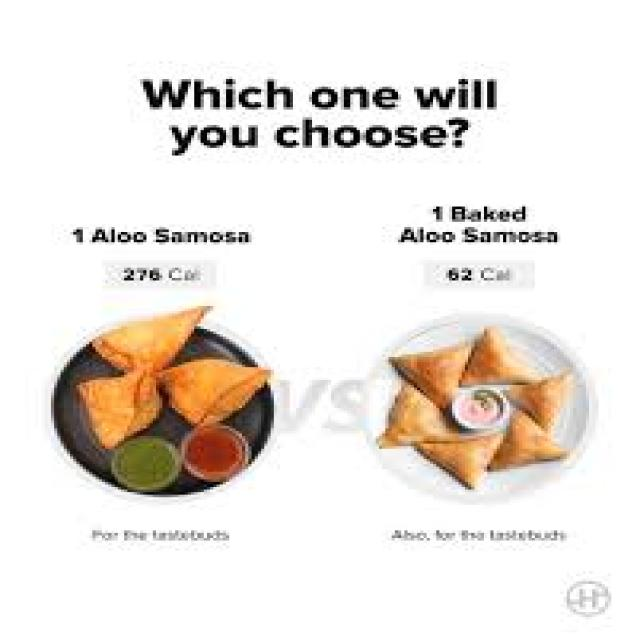SAMOSA: (92, 306, 204, 370), (162, 360, 267, 423), (80, 370, 156, 446), (392, 344, 468, 408), (417, 433, 500, 487), (490, 413, 564, 467), (382, 382, 446, 444), (462, 326, 532, 380), (509, 380, 567, 428)
